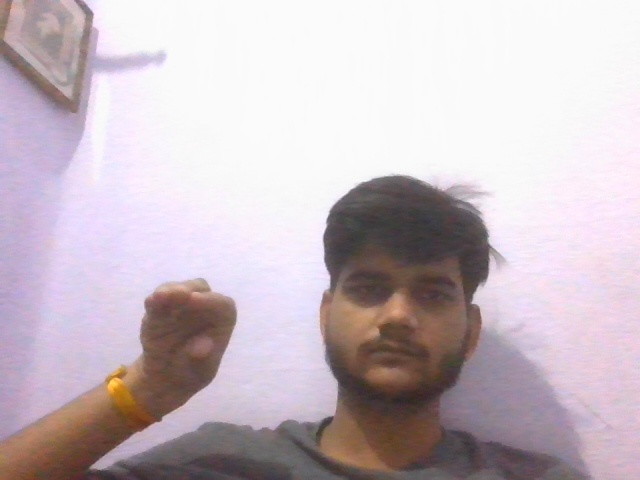sorry: (132, 257, 248, 402)
